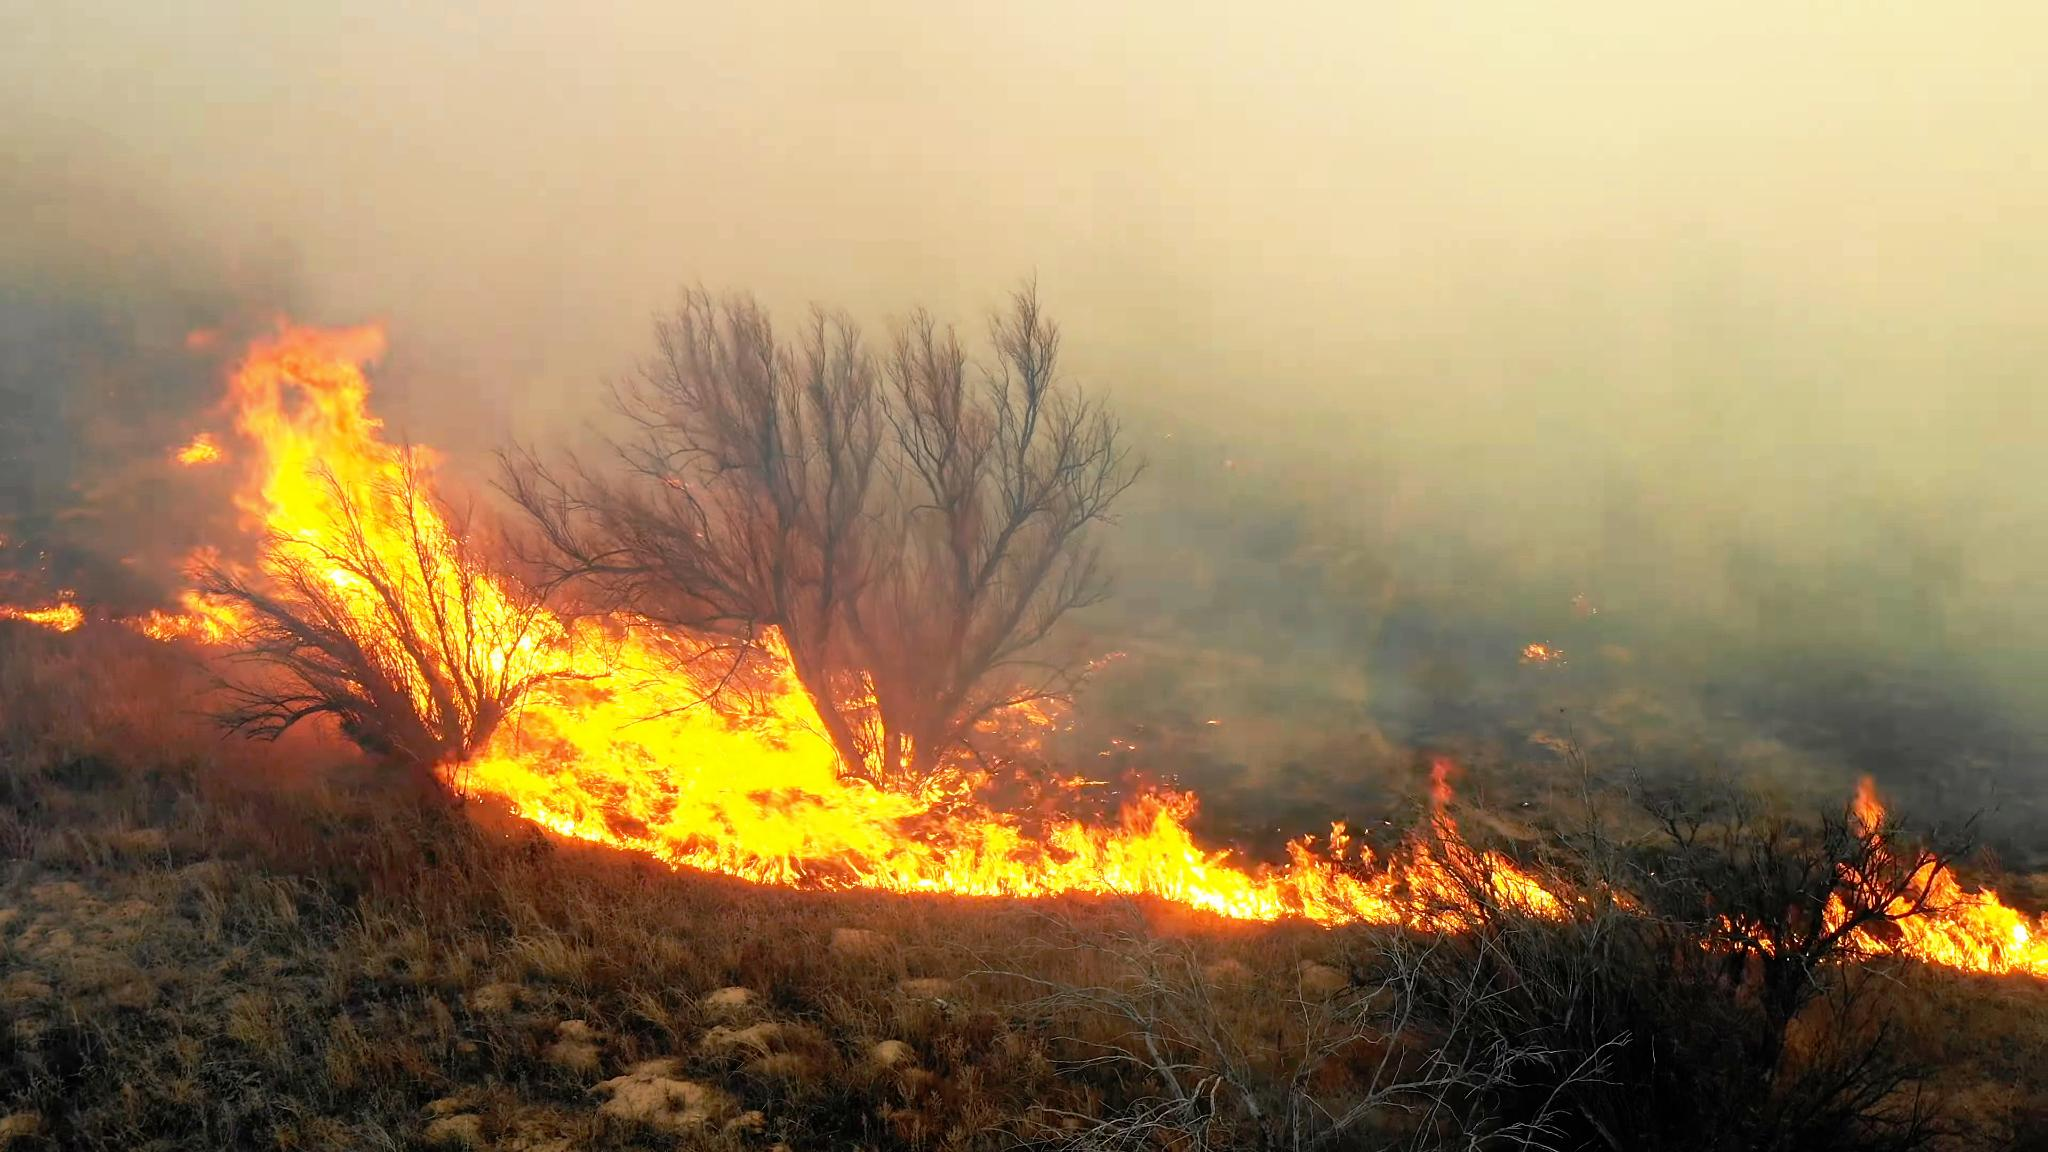fire: (473, 605, 813, 890), (785, 715, 1220, 899), (241, 377, 428, 613), (1256, 796, 1546, 916), (1883, 845, 2048, 990)
